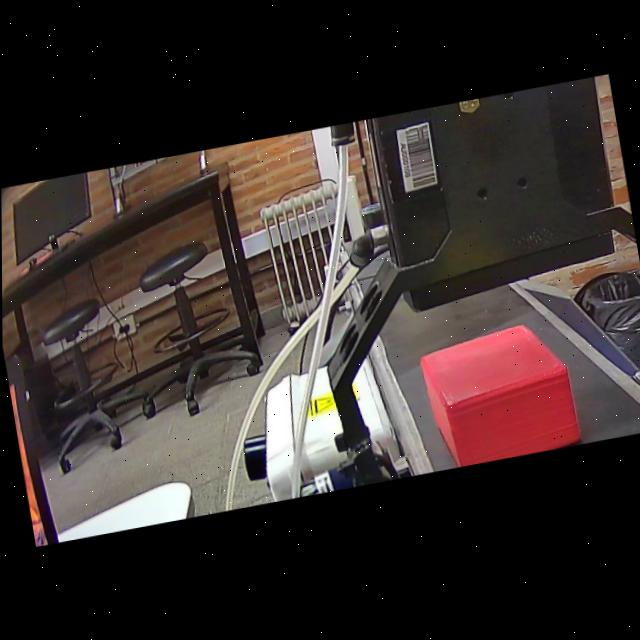redBox: (412, 312, 592, 475)
